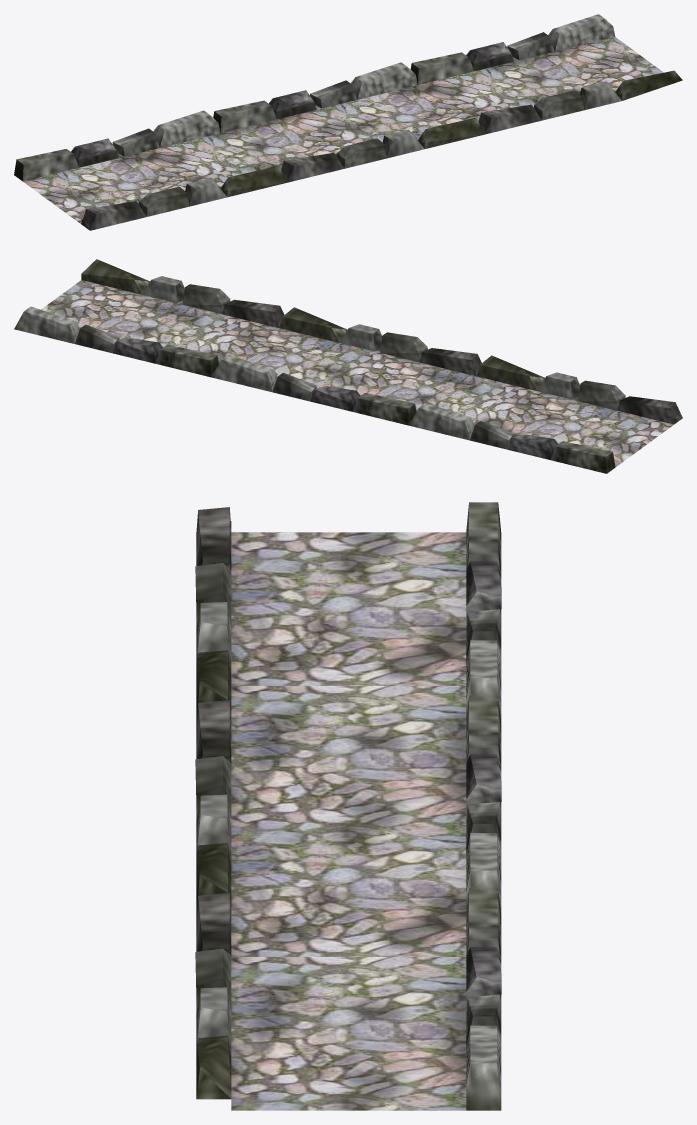
The model's file is road.FBX.
3 views of the same model, one above another, from view 1: azimuth 30°, elevation 25°; view 2: azimuth 150°, elevation 25°; view 3: azimuth 270°, elevation 25° (orthographic). The views are drawn at different scales.
Parts seen in each view (by area): view 1: Road itself, NoName21; view 2: Road itself, NoName21; view 3: Road itself, NoName21.
Boxes of the visible parts, <box> form: Road itself: <box>23,37,663,223</box>; NoName21: <box>14,14,682,230</box>; Road itself: <box>41,280,673,467</box>; NoName21: <box>14,259,682,473</box>; Road itself: <box>230,532,466,1110</box>; NoName21: <box>195,502,501,1110</box>.
Bounding box in the file's own units: 1.07 × 0.0333 × 0.2386.
Materials: 2 (2 with a texture image).
